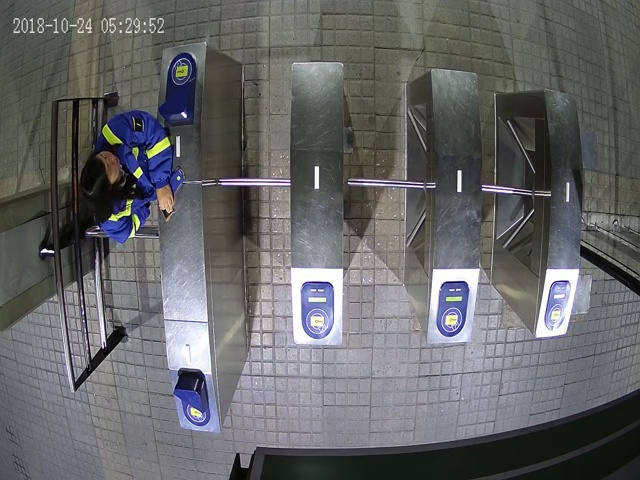Chaleco_azul: (79, 110, 176, 244)
